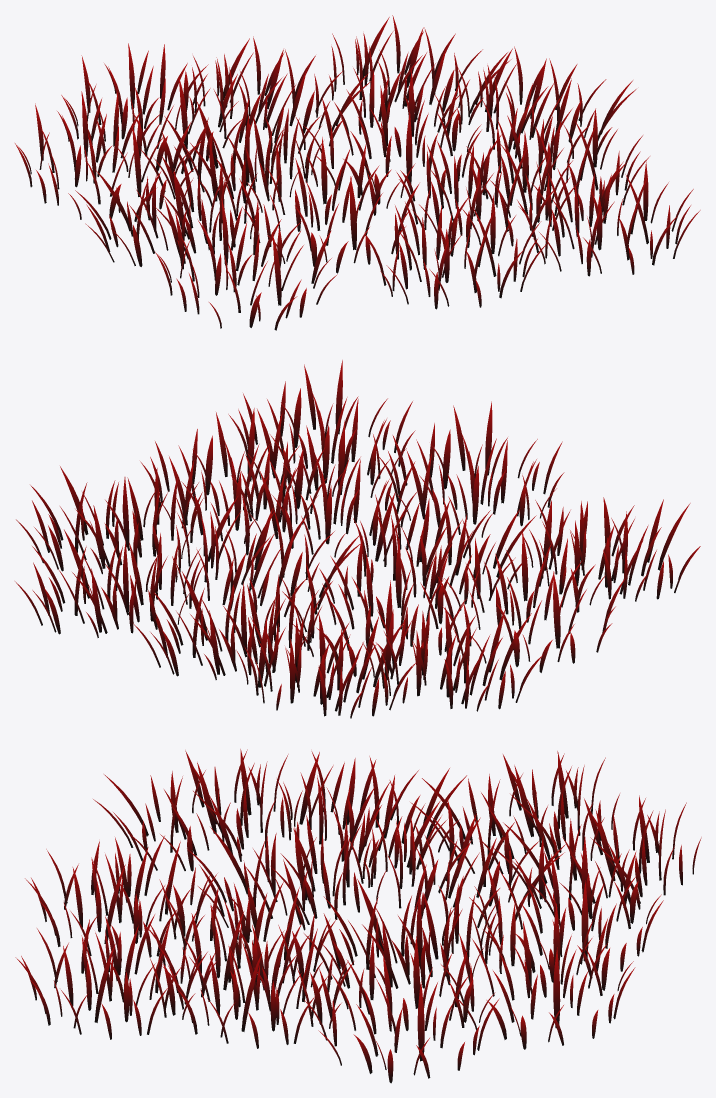
The model's file is grassCoveringLOD0.fbx.
3 views of the same model, one above another, from view 1: azimuth 30°, elevation 25°; view 2: azimuth 150°, elevation 25°; view 3: azimuth 270°, elevation 25° (orthographic). The views are drawn at different scales.
Visible parts, largest first — view 1: GrassLOD0; view 2: GrassLOD0; view 3: GrassLOD0.
Boxes of the visible parts, box(x1,y1,x2,y2) form: GrassLOD0: box(15, 15, 700, 330); GrassLOD0: box(15, 360, 700, 718); GrassLOD0: box(15, 749, 701, 1083).
Bounding box in the file's own units: 1218 × 178 × 1204.
